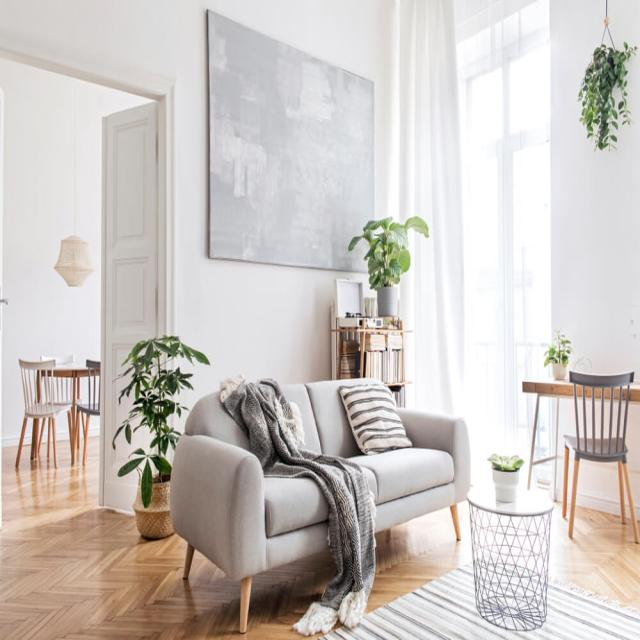vintage chair: (559, 359, 640, 548), (12, 351, 70, 484)
vintage sofa: (164, 370, 474, 632)
